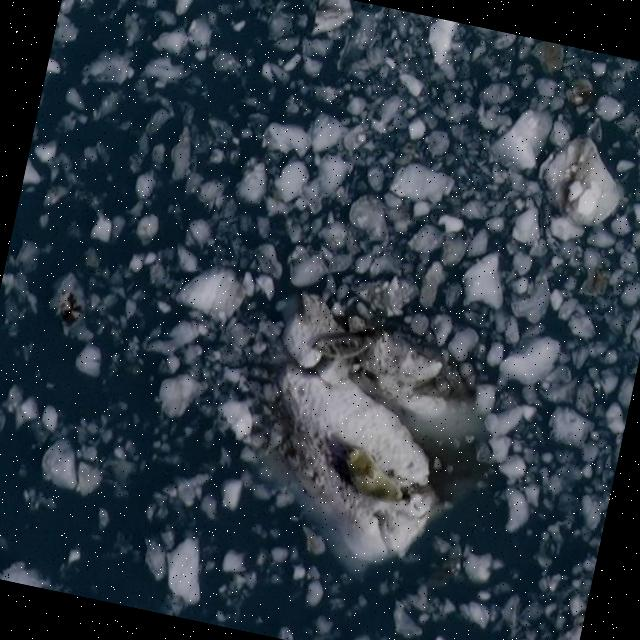seal: (328, 439, 415, 517)
